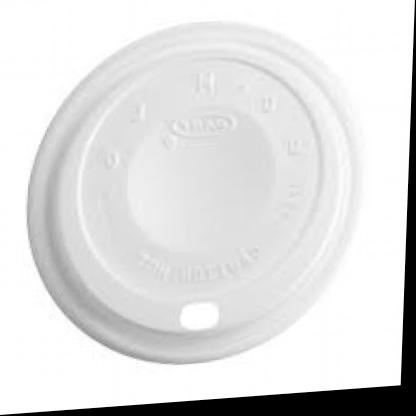trash: (28, 23, 355, 362)
